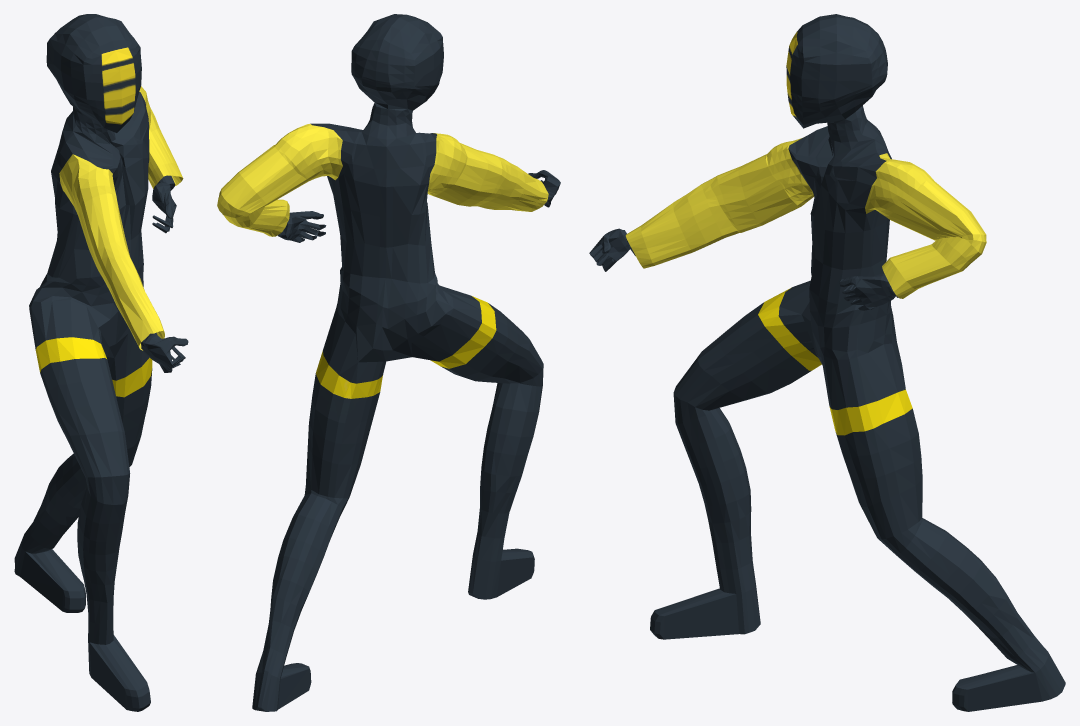
File: Sentry_WB_000004.obj
3 views of the same model, side by side, from view 1: azimuth 30°, elevation 25°; view 2: azimuth 150°, elevation 25°; view 3: azimuth 270°, elevation 25° (orthographic). The views are drawn at different scales.
Visible parts, largest first — view 1: Cube; view 2: Cube; view 3: Cube.
Boxes of the visible parts, bbox=[...] form: Cube: bbox=[14, 14, 188, 711]; Cube: bbox=[217, 14, 560, 711]; Cube: bbox=[589, 14, 1065, 711].
Size of the model in its own units: 1.18 by 3.69 by 2.38.
